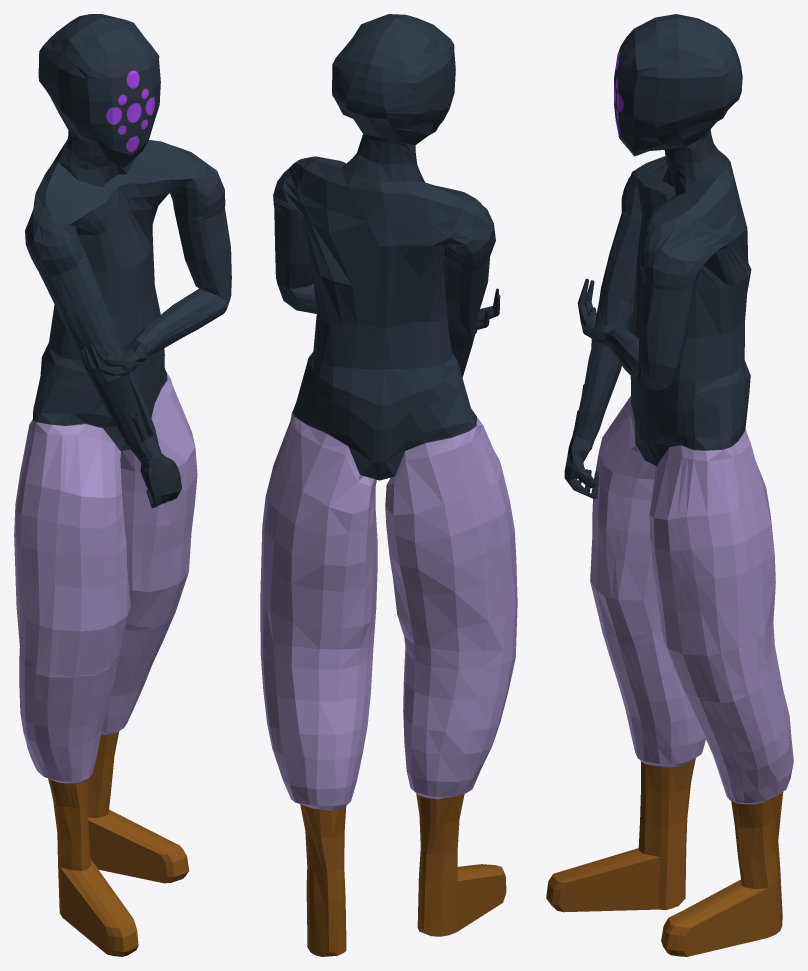
File: Oracle_Reload_000014.obj
3 renders of one model, left to right at view 1: azimuth 30°, elevation 25°; view 2: azimuth 150°, elevation 25°; view 3: azimuth 270°, elevation 25°, orthographic. The views are drawn at different scales.
Visible parts, largest first — view 1: Cube; view 2: Cube; view 3: Cube.
Boxes of the visible parts, x1,y1,x2,y2 form: Cube: (14,14,231,956); Cube: (260,14,517,956); Cube: (546,14,793,956).
Bounding box in the file's own units: 1.01 × 3.94 × 0.9762.
